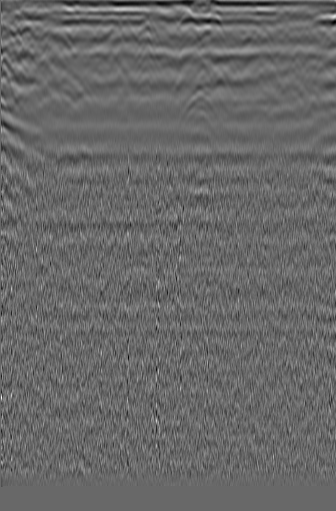상수: (282, 48, 310, 77)
오수: (0, 43, 17, 77)
우수: (129, 45, 163, 77)
